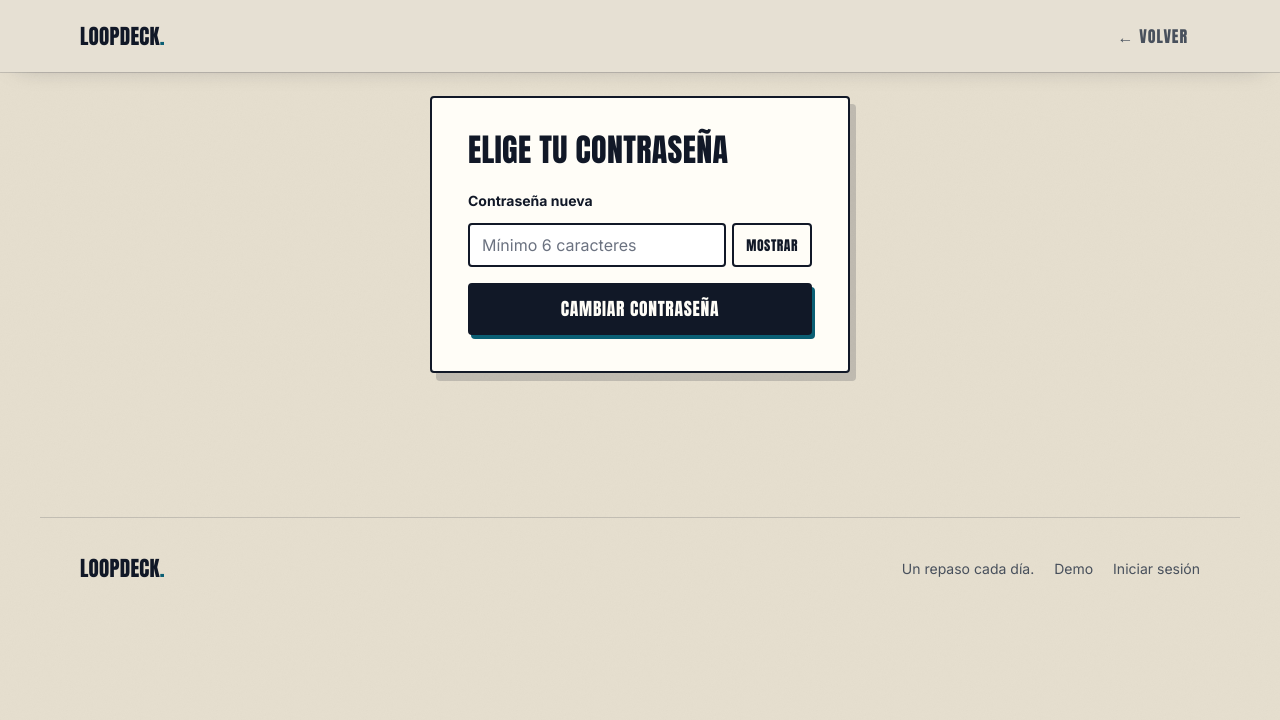
Test: ResetPasswordPage › shows the server message for an expired or used link and offers a new one
In the password field labelled "Contraseña nueva": (597, 245) [468, 223, 726, 267], type "clave-nueva-1"
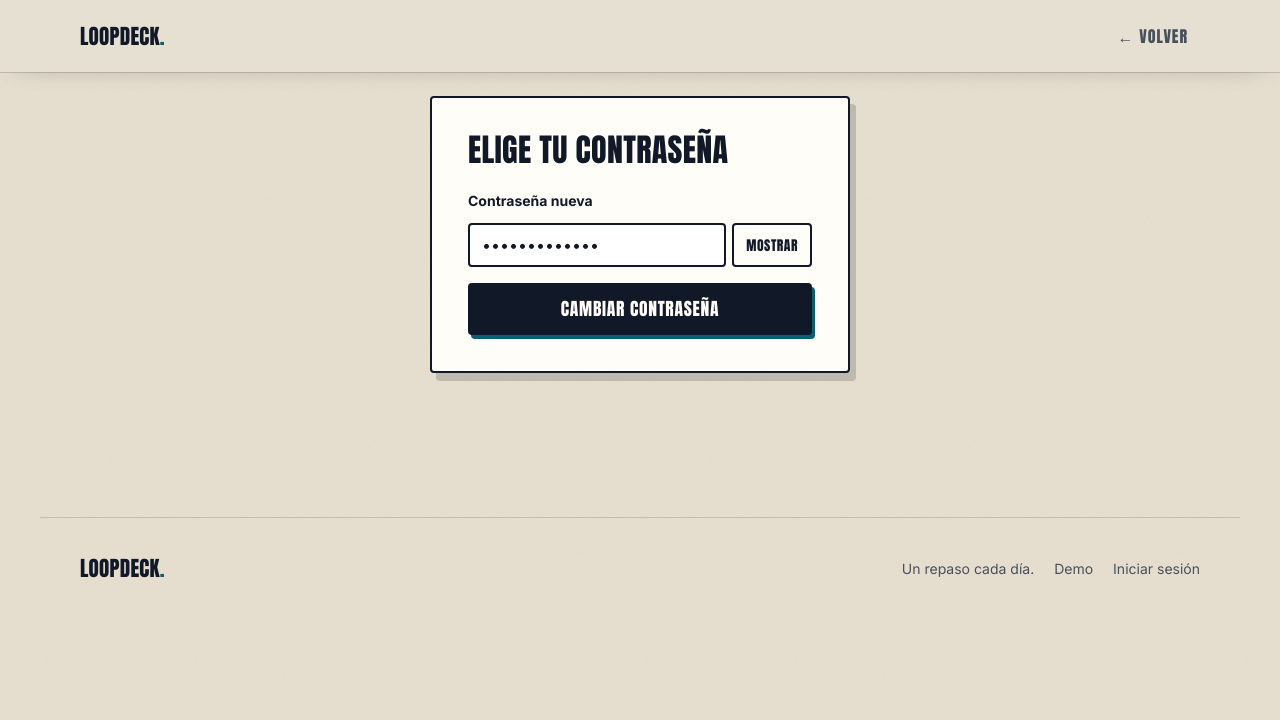
Click the button "Cambiar contraseña": click(640, 309) [468, 283, 812, 335]
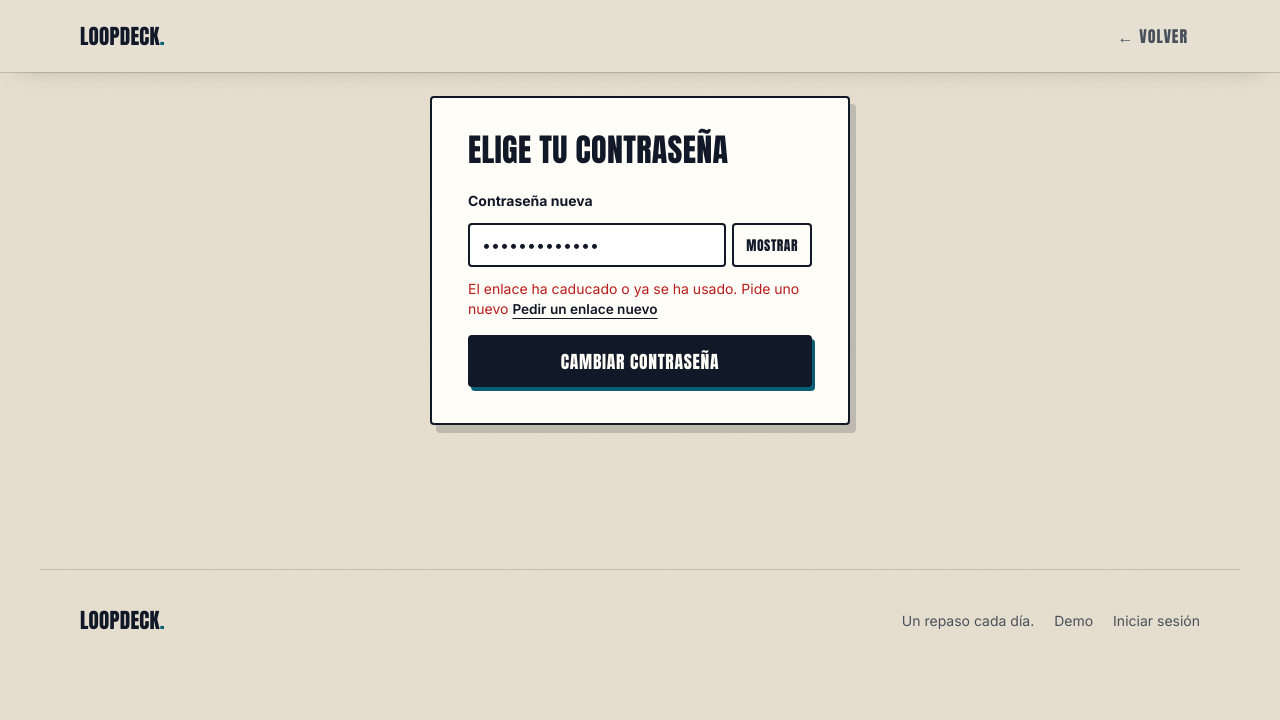
Now the message shows "El enlace ha caducado", box [468, 280, 799, 317]
